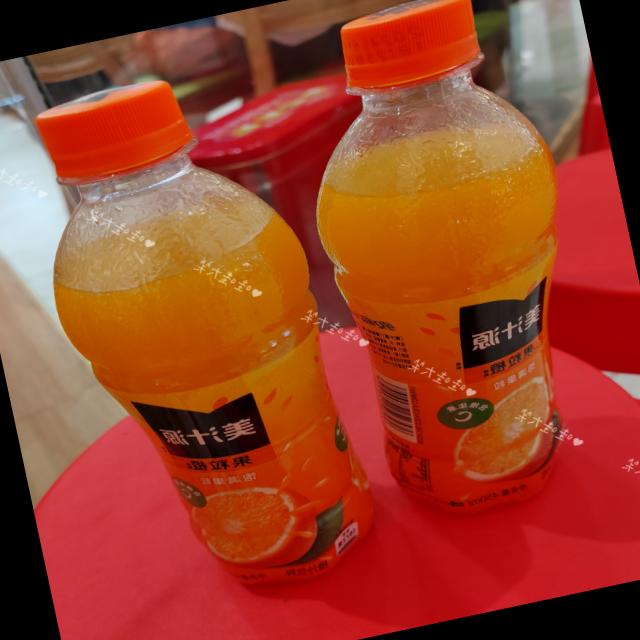bottle: (10, 48, 396, 624), (276, 0, 625, 537)
